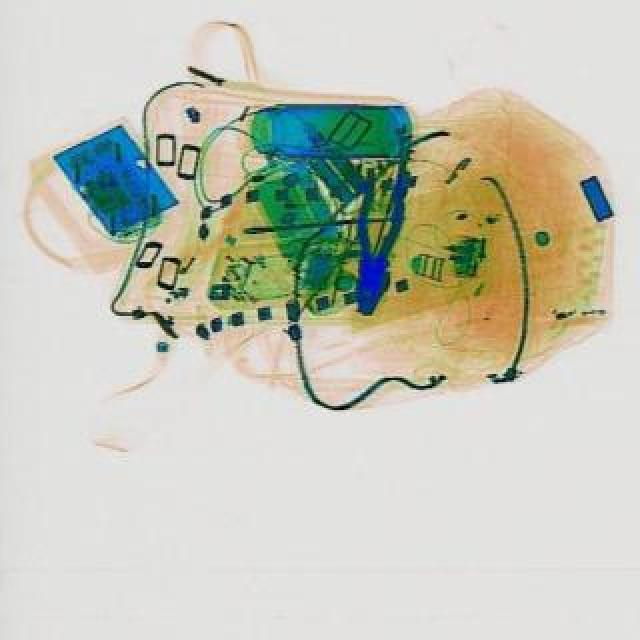wrench: (344, 160, 408, 320)
